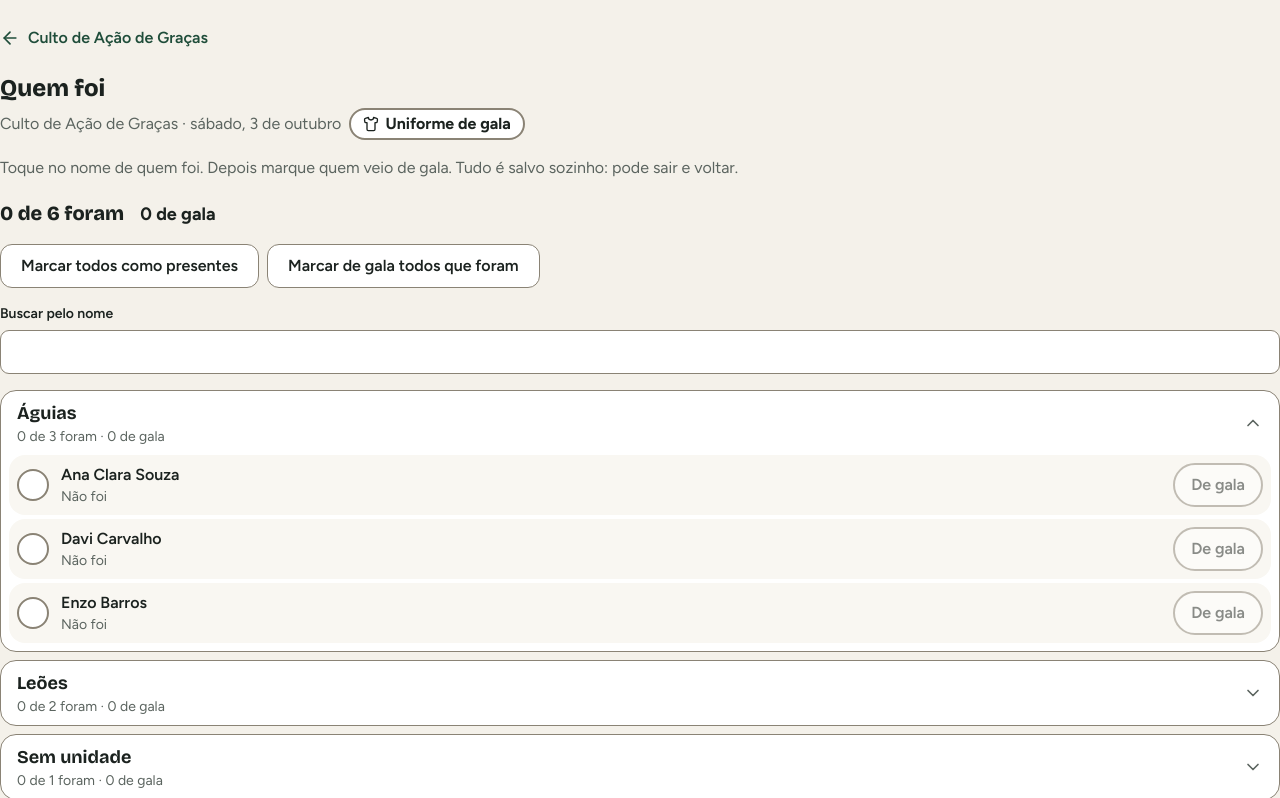
Test: lista "Quem foi" no celular › abre outra unidade ao tocar no cabeçalho dela
Expected: the text "Ana Clara Souza" is shown, [61, 463, 179, 487]
Click the button "Leões 0 de 2 foram · 0 de gala" at (42, 683), box [9, 669, 1271, 717]
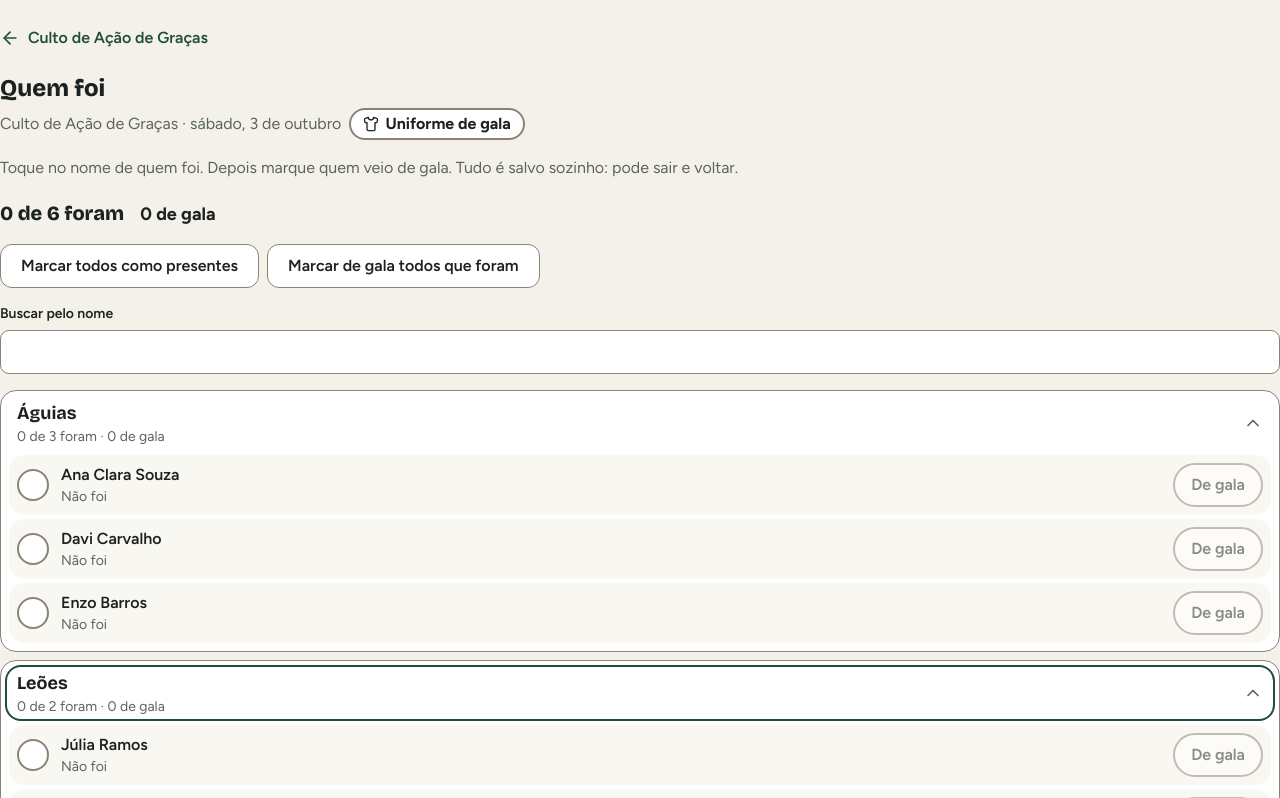
Now the text "Júlia Ramos" is shown, box [61, 733, 148, 757]
Click the button "Leões 0 de 2 foram · 0 de gala" at (42, 683), box [9, 669, 1271, 717]
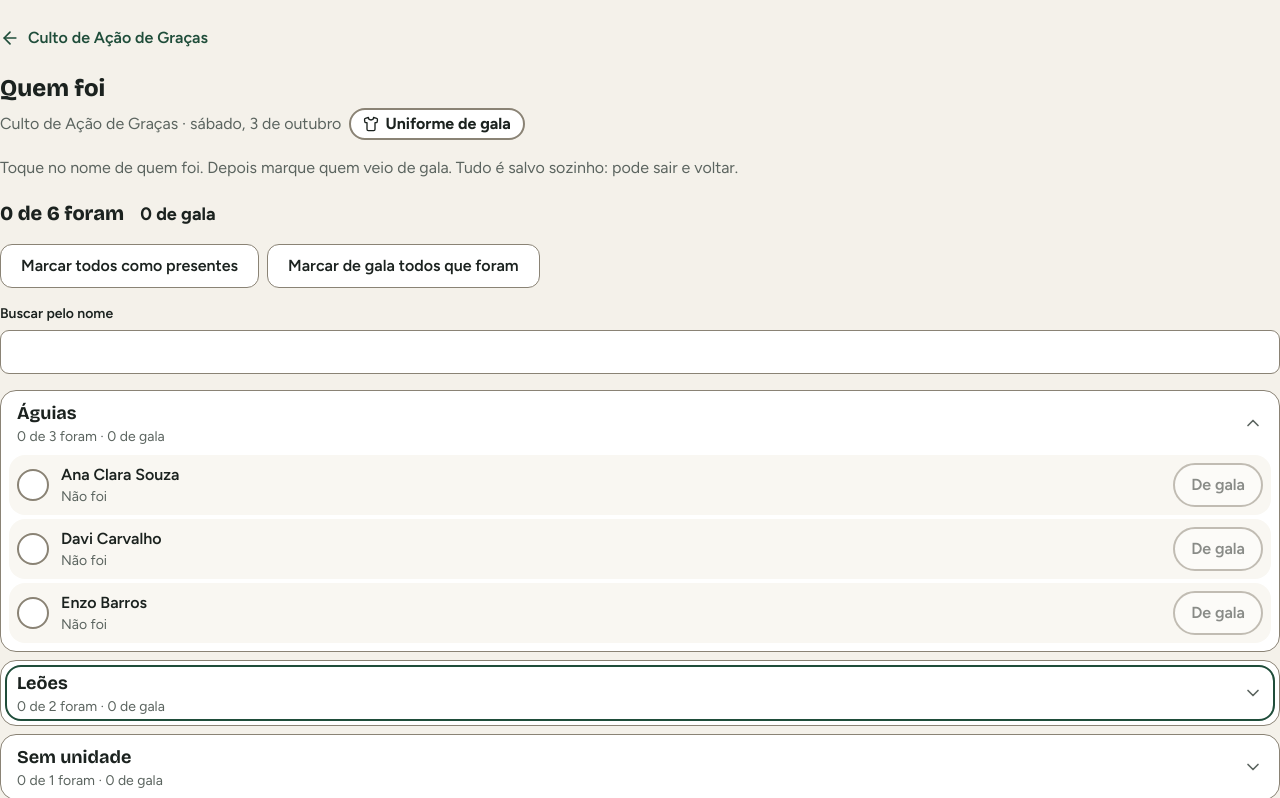
Now the button "Júlia Ramos" is gone
